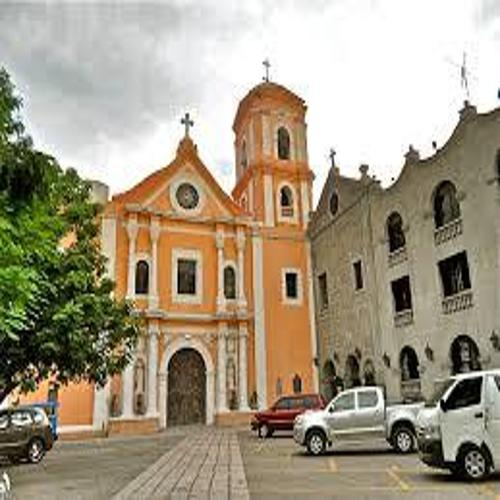San Agustin Church: (94, 48, 329, 441)
